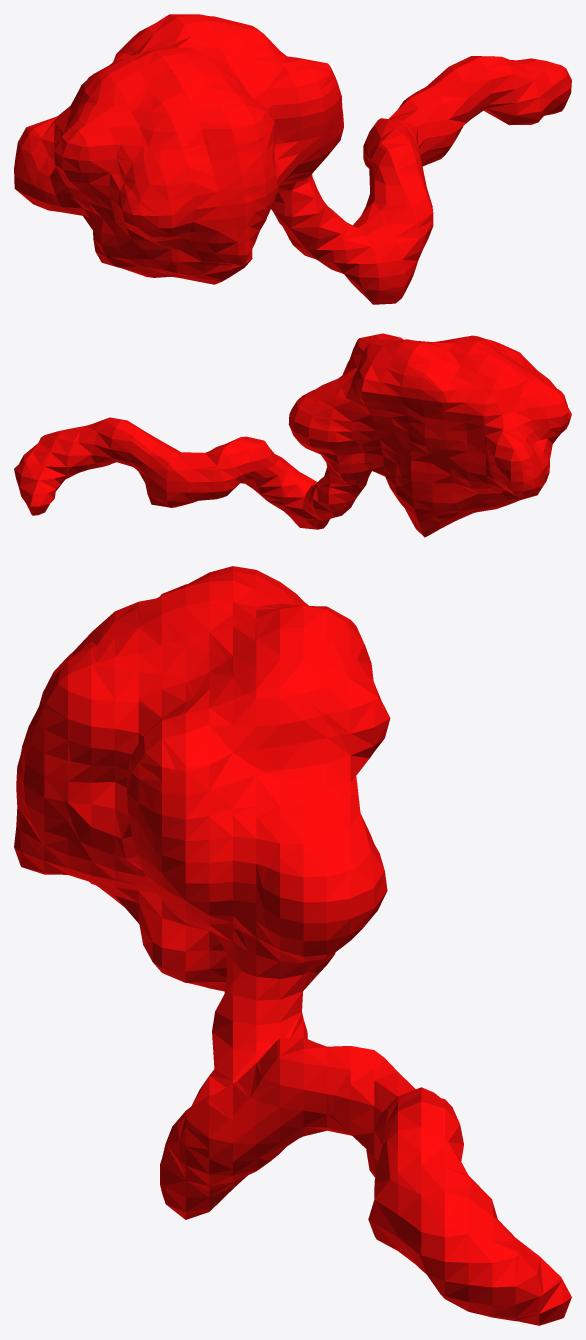
File: trmH_coarse.dae
3 renders of one model, top to bottom at view 1: azimuth 30°, elevation 25°; view 2: azimuth 150°, elevation 25°; view 3: azimuth 270°, elevation 25°, orthographic. The views are drawn at different scales.
Parts seen in each view (by area): view 1: trmH; view 2: trmH; view 3: trmH.
Boxes of the visible parts, x1,y1,x2,y2 form: trmH: [14, 14, 571, 304]; trmH: [14, 333, 571, 537]; trmH: [14, 566, 571, 1325].
Size of the model in its own units: 115 by 55.29 by 58.77.
